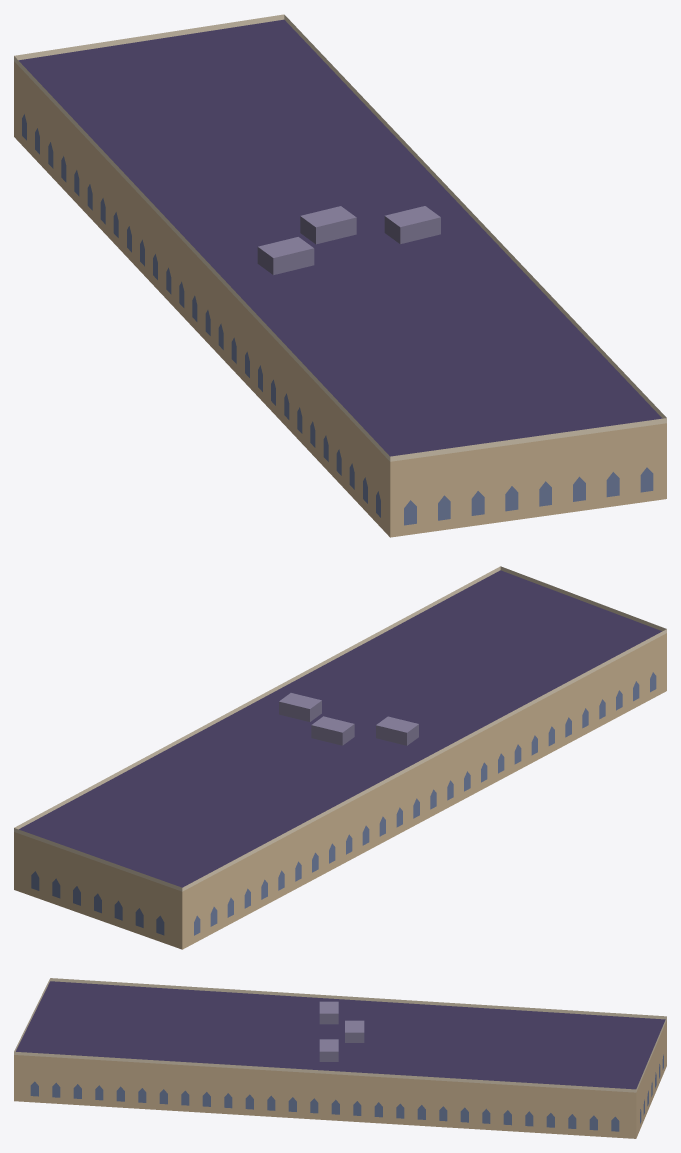
The model's file is b-106-day.glb.
The picture shows the model from 3 angles, top to bottom: view 1: azimuth 30°, elevation 25°; view 2: azimuth 150°, elevation 25°; view 3: azimuth 270°, elevation 25°; orthographic projection. The views are drawn at different scales.
Parts seen in each view (by area): view 1: campus/b-106-day-0; view 2: campus/b-106-day-0; view 3: campus/b-106-day-0.
Boxes of the visible parts, x1,y1,x2,y2 form: campus/b-106-day-0: (14, 14, 666, 537); campus/b-106-day-0: (14, 566, 666, 949); campus/b-106-day-0: (14, 978, 666, 1138).
Size of the model in its own units: 41.27 by 9.8 by 102.
